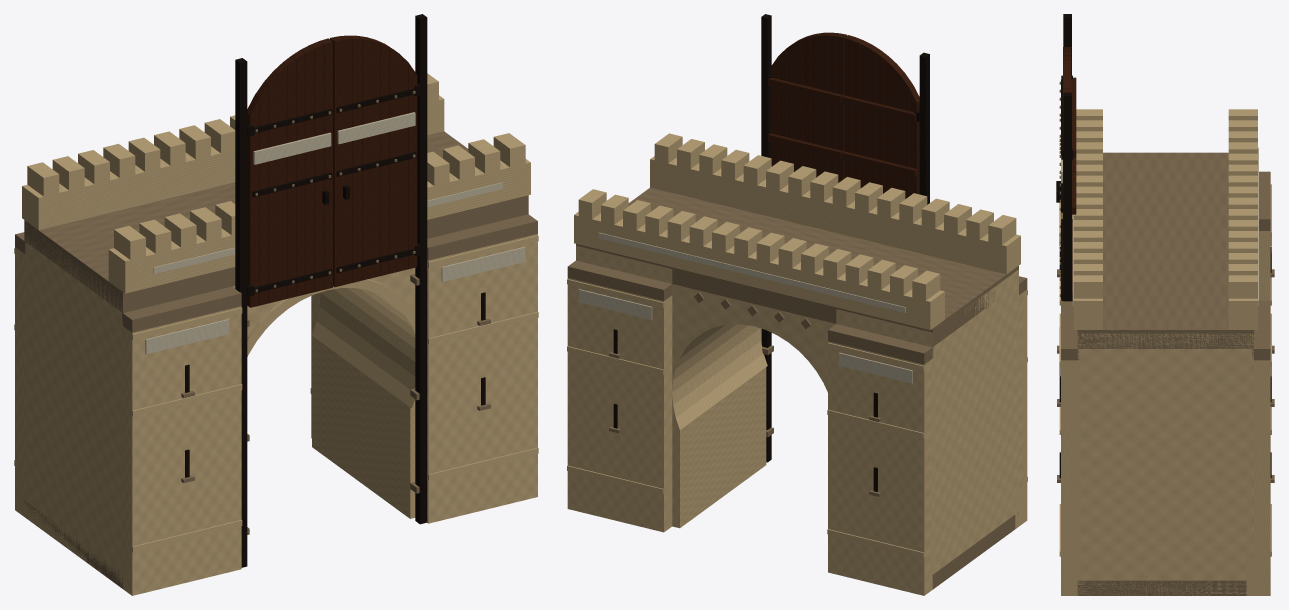
Rendered from Berber_StoneGate_Age4_Open.fbx.
The picture shows the model from 3 angles, left to right: view 1: azimuth 30°, elevation 25°; view 2: azimuth 150°, elevation 25°; view 3: azimuth 270°, elevation 25°; orthographic projection. The views are drawn at different scales.
Parts seen in each view (by area): view 1: left_projecting_tower_face, left_tower_pier, right_projecting_tower_face, continuous_horseshoe_gateway, continuous_rampart_deck, walkway_parapet.001, walkway_parapet, right_gateway_jamb, portcullis_guide_track.001, portcullis_guide_track, left_tower_ledge, right_door_plank_8 (+46 smaller); view 2: right_projecting_tower_face.001, left_tower_pier, left_projecting_tower_face.001, continuous_horseshoe_gateway, continuous_rampart_deck, walkway_parapet, walkway_parapet.001, portcullis_guide_track.001, parapet_owner_band.001, left_tower_ledge.001, right_tower_ledge.001, left_projecting_tower_face (+66 smaller); view 3: right_tower_pier, continuous_rampart_deck, right_projecting_tower_face.001, right_projecting_tower_face, right_rubble_plinth, portcullis_guide_track.001, walkway_parapet, walkway_parapet.001, right_tower_ledge.001, right_tower_ledge, left_projecting_tower_face.001, crenellation.015 (+35 smaller).
Boxes of the visible parts, x1,y1,x2,y2 form: left_projecting_tower_face: (123,306,241,595); left_tower_pier: (24,229,122,586); right_projecting_tower_face: (427,234,537,523); continuous_horseshoe_gateway: (232,268,415,518); continuous_rampart_deck: (24,131,528,312); walkway_parapet.001: (22,95,444,230); walkway_parapet: (108,159,530,293); right_gateway_jamb: (312,395,415,518); portcullis_guide_track.001: (415,14,427,524); portcullis_guide_track: (235,58,247,567); left_tower_ledge: (122,286,241,332); right_door_plank_8: (330,36,343,287); right_projecting_tower_face.001: (567,278,672,532); left_tower_pier: (836,269,1018,571); left_projecting_tower_face.001: (828,341,932,595); continuous_horseshoe_gateway: (672,284,835,528); continuous_rampart_deck: (576,187,1018,346); walkway_parapet: (650,156,1020,274); walkway_parapet.001: (574,212,944,330); portcullis_guide_track.001: (761,14,771,462); parapet_owner_band.001: (598,232,905,312); left_tower_ledge.001: (828,324,933,364); right_tower_ledge.001: (567,260,672,300); left_projecting_tower_face: (1019,289,1027,523); right_tower_pier: (1077,333,1253,595); continuous_rampart_deck: (1077,152,1253,348); right_projecting_tower_face.001: (1254,360,1270,595); right_projecting_tower_face: (1061,360,1077,595); right_rubble_plinth: (1077,580,1246,595); portcullis_guide_track.001: (1063,92,1071,301); walkway_parapet: (1073,298,1102,329); walkway_parapet.001: (1228,298,1257,329); right_tower_ledge.001: (1252,301,1270,360); right_tower_ledge: (1061,301,1079,360); left_projecting_tower_face.001: (1259,231,1270,300); crenellation.015: (1073,275,1102,298).
Size of the model in its own units: 1000 by 1190 by 520.
Materials: 5 (5 with a texture image).
